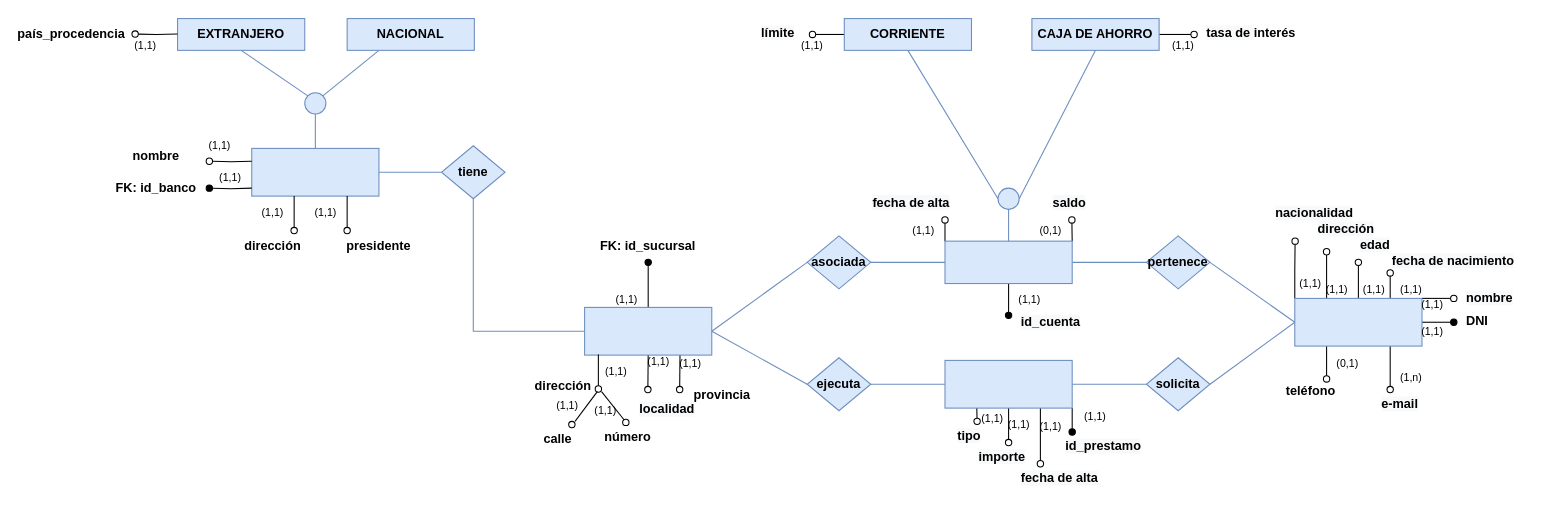
This 1557x514 diagram has some shape labels left out. The box of each missing label's shape, as (x1, y1, x2, y2) in pixels:
BANCO: (251, 147, 379, 196)
CLIENTE: (1294, 297, 1422, 346)
CUENTA: (944, 240, 1072, 284)
PRESTAMO: (944, 359, 1072, 408)
SUCURSAL: (584, 306, 712, 355)
